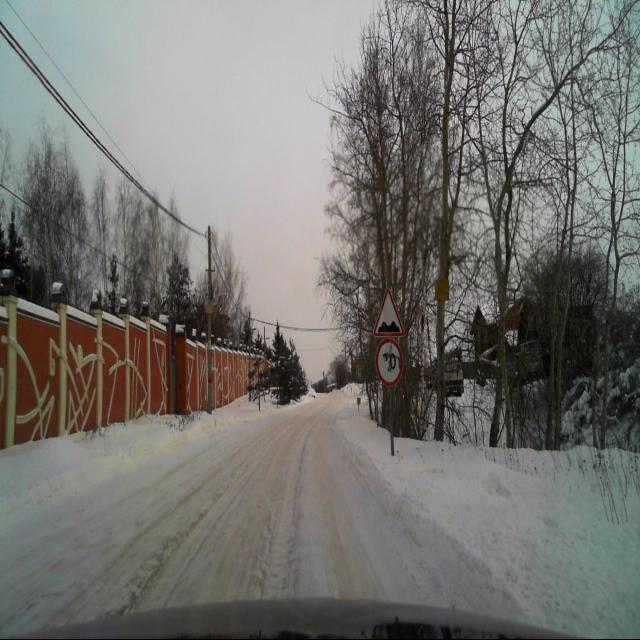object: (390, 390, 395, 459)
road sign: (374, 286, 402, 338)
